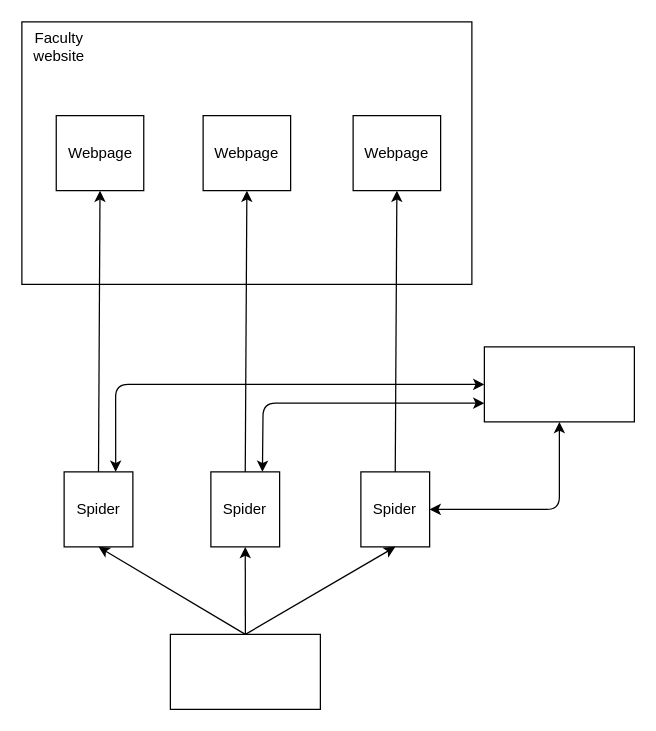
The diagram is 656 pixels wide and 731 high, and some of its shapes have lost their labels. Here are the shapes that lost their labels. From the top down, the centre of each, then its label:
the point at 558,384: URL seed
the point at 244,671: Web crawler
